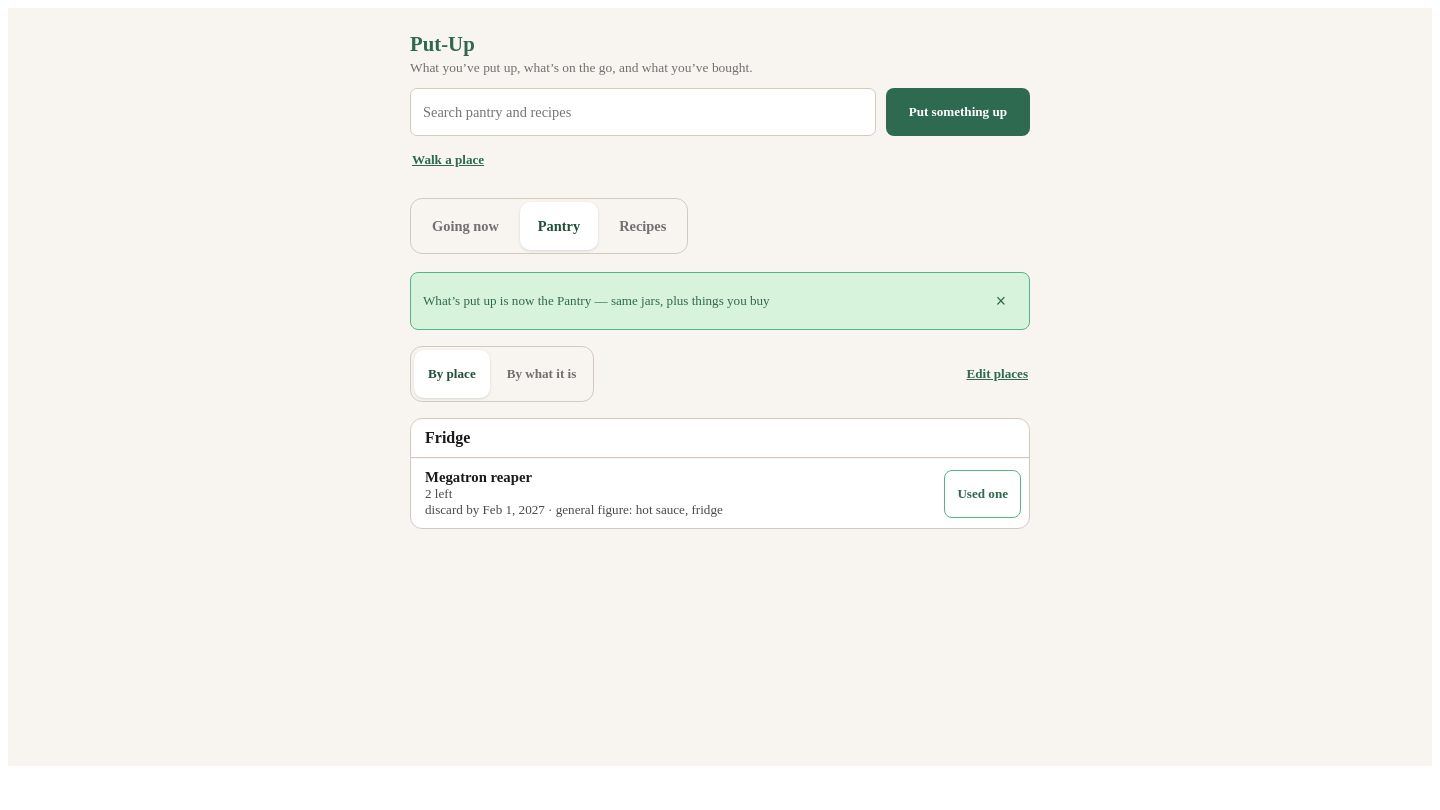
Test: Move it (V4 §2.5, §3.4) › requires a place, defaults When to Today, and posts the move route
Click the button that starts with "Megatron reaper": (478, 477) 419,463 -> 936,524
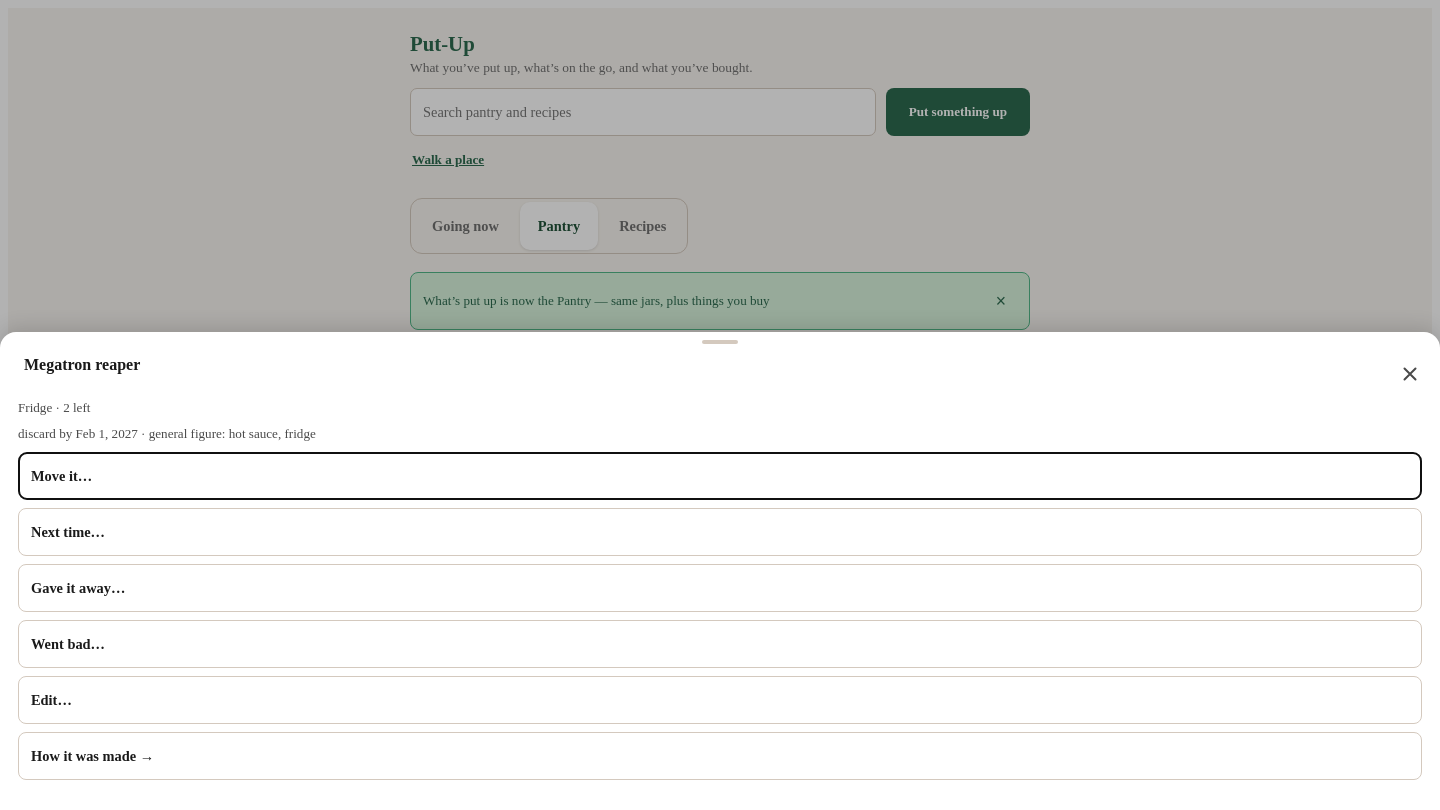
Click the button with test id "row-move": (62, 476) 18,452 -> 1422,500
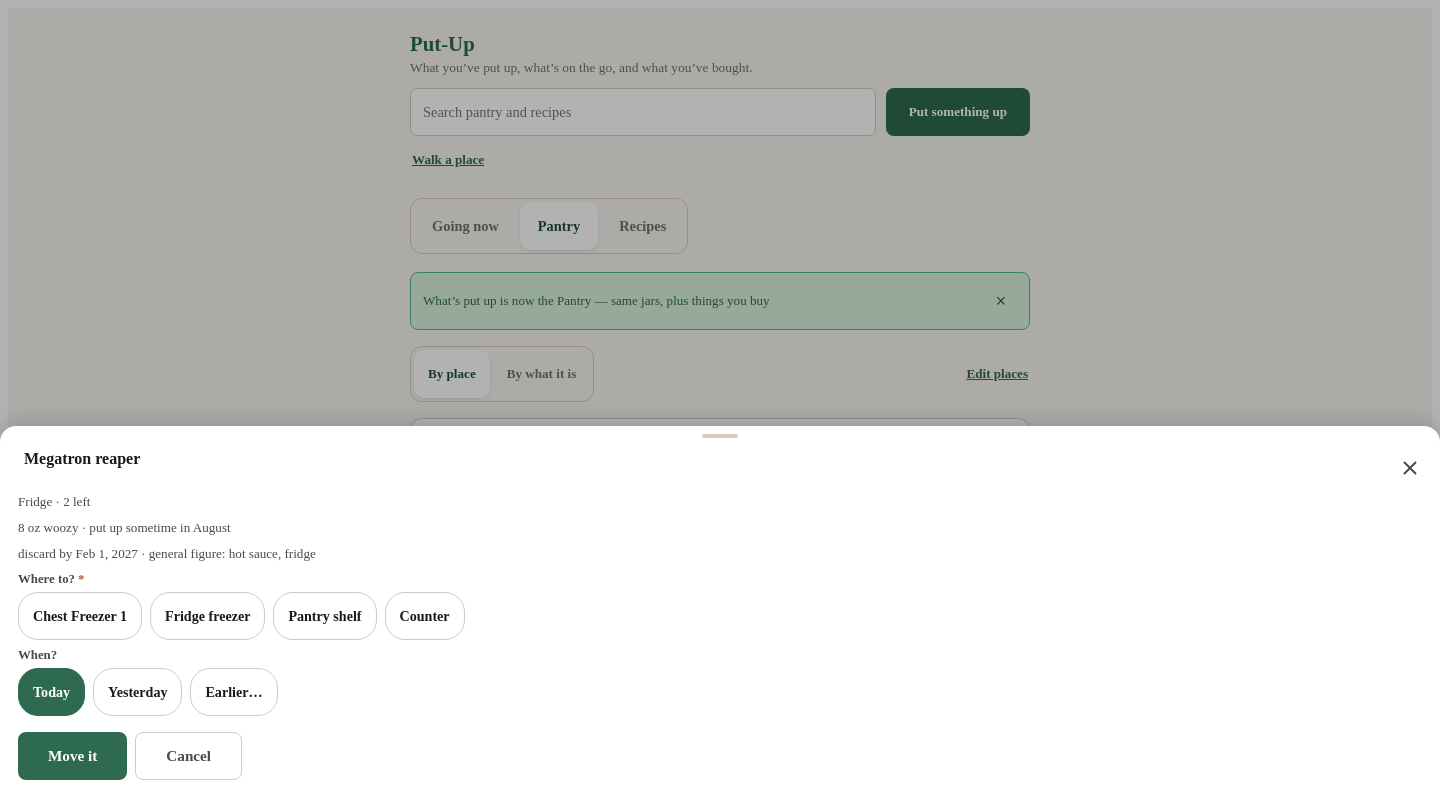
Result: the radio button with test id "move-place-id:loc-cf1" is shown at 18,592 -> 142,640
Click the button with test id "move-save": (73, 756) 18,732 -> 127,780
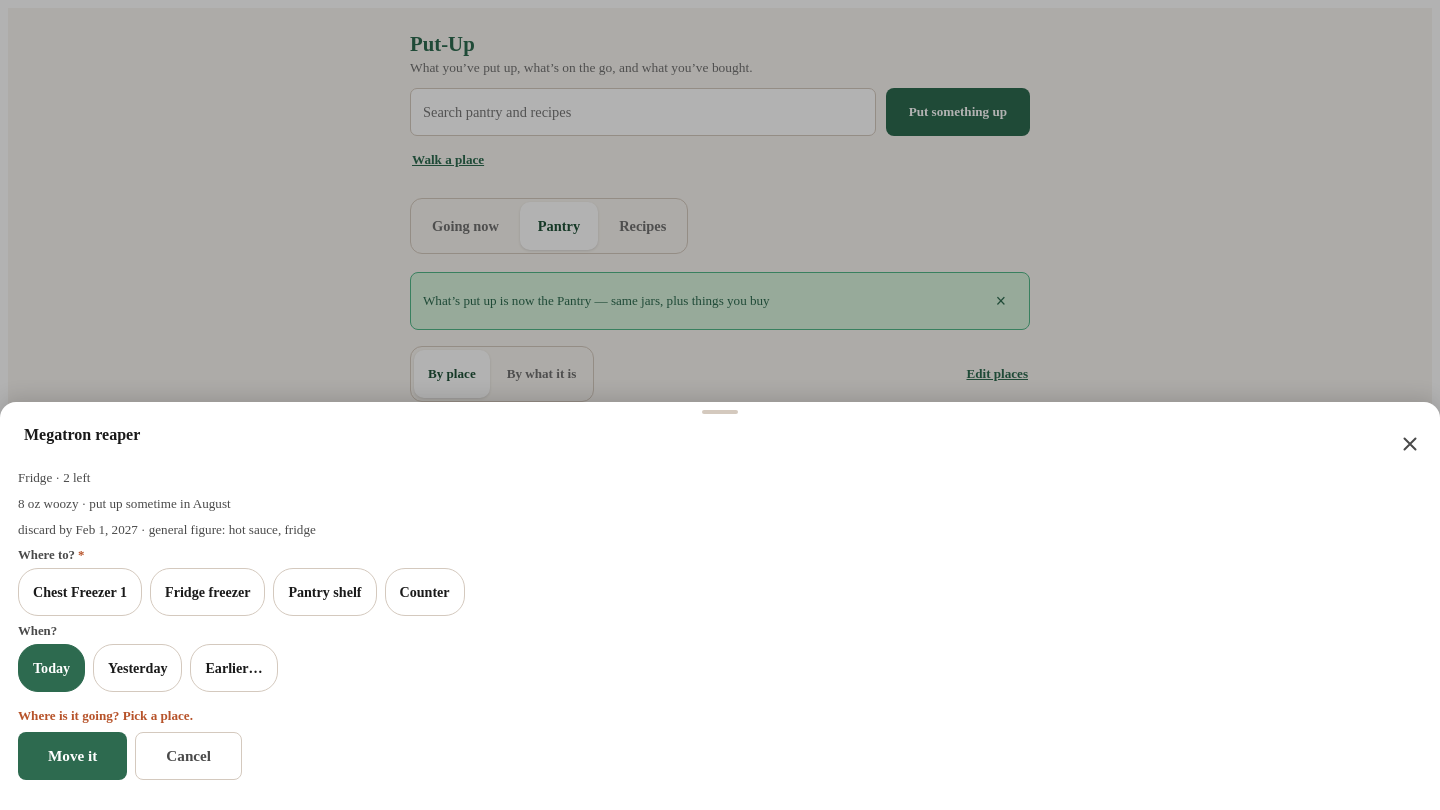
Result: the message with test id "move-error" reads "Where is it going? Pick a place." at 18,708 -> 193,723
Click the radio button with test id "move-place-id:loc-cf1": (80, 592) 18,568 -> 142,616
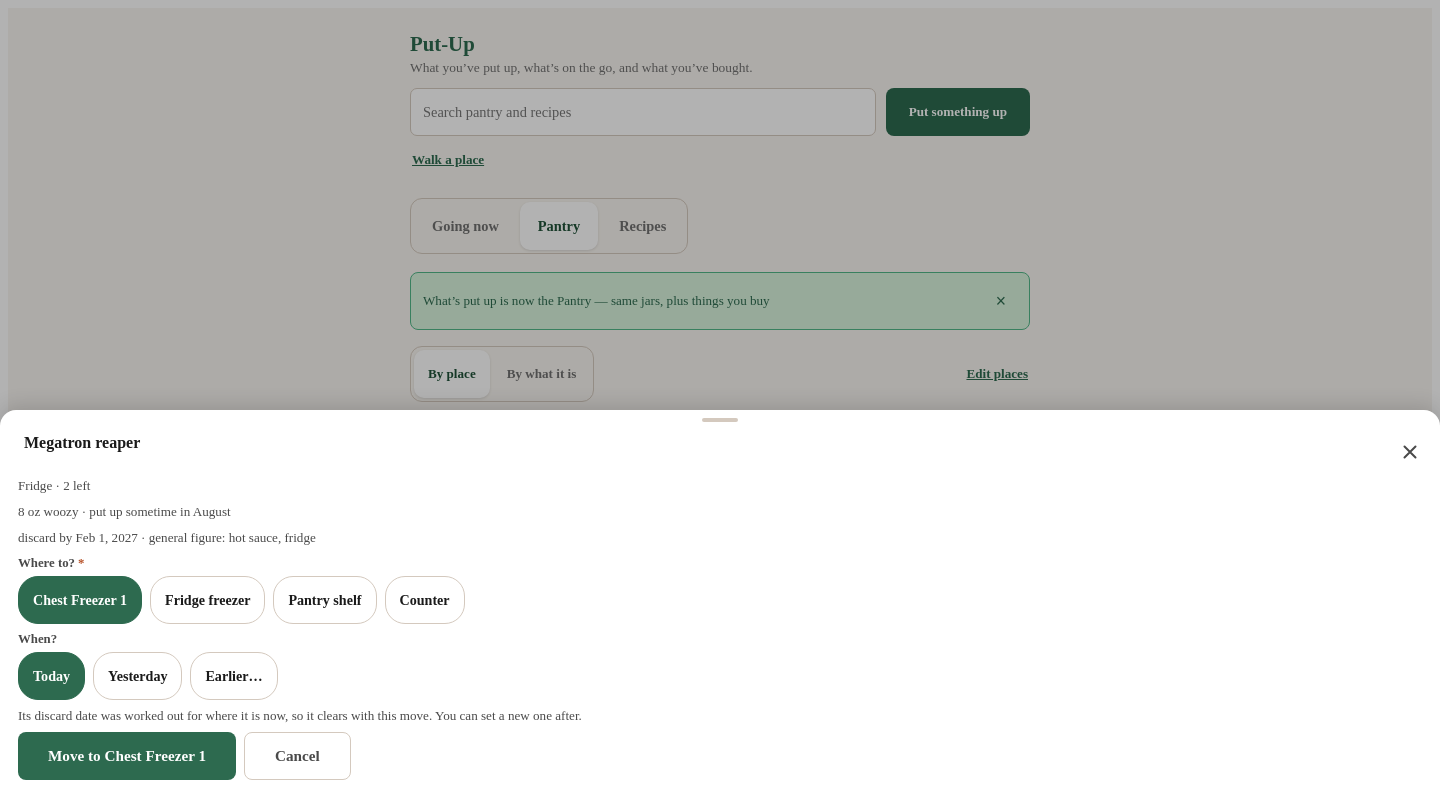
Click the button with test id "move-save": (127, 756) 18,732 -> 236,780
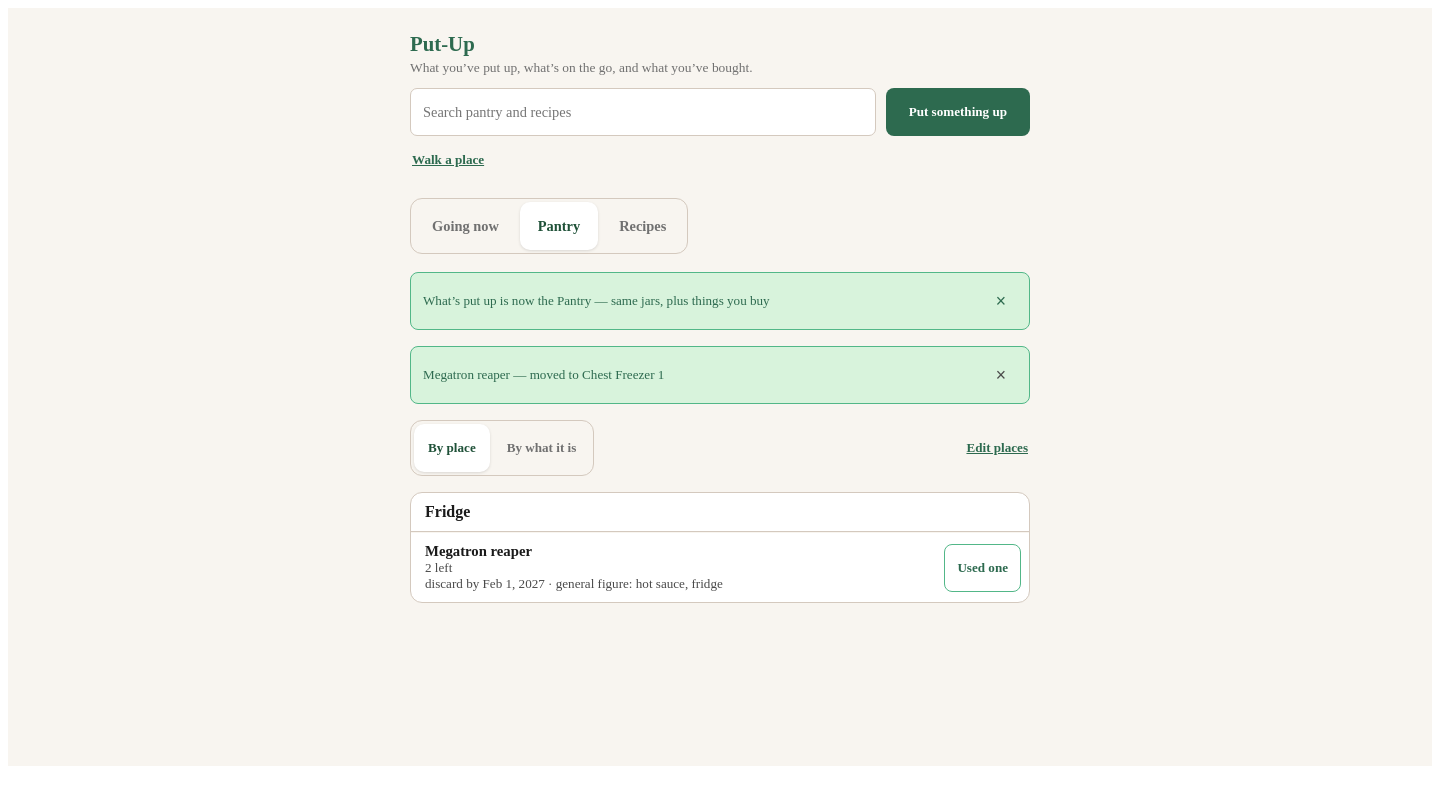
Result: the element with test id "move-panel" is gone
Result: the element with test id "row-sheet" is gone
